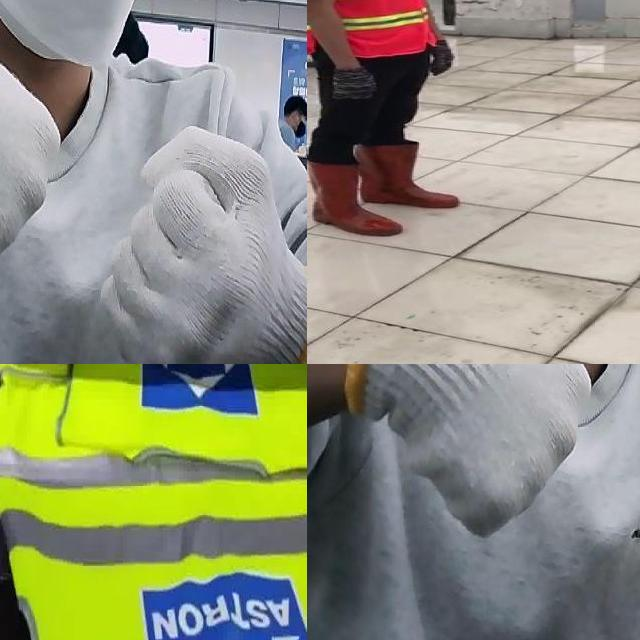BOOTS: (307, 156, 405, 237), (357, 137, 437, 210)
GLASS: (332, 64, 376, 100)
GLOVE: (100, 123, 307, 364), (342, 364, 589, 538), (0, 0, 62, 289)
VEST: (0, 364, 307, 640), (307, 0, 432, 56)
